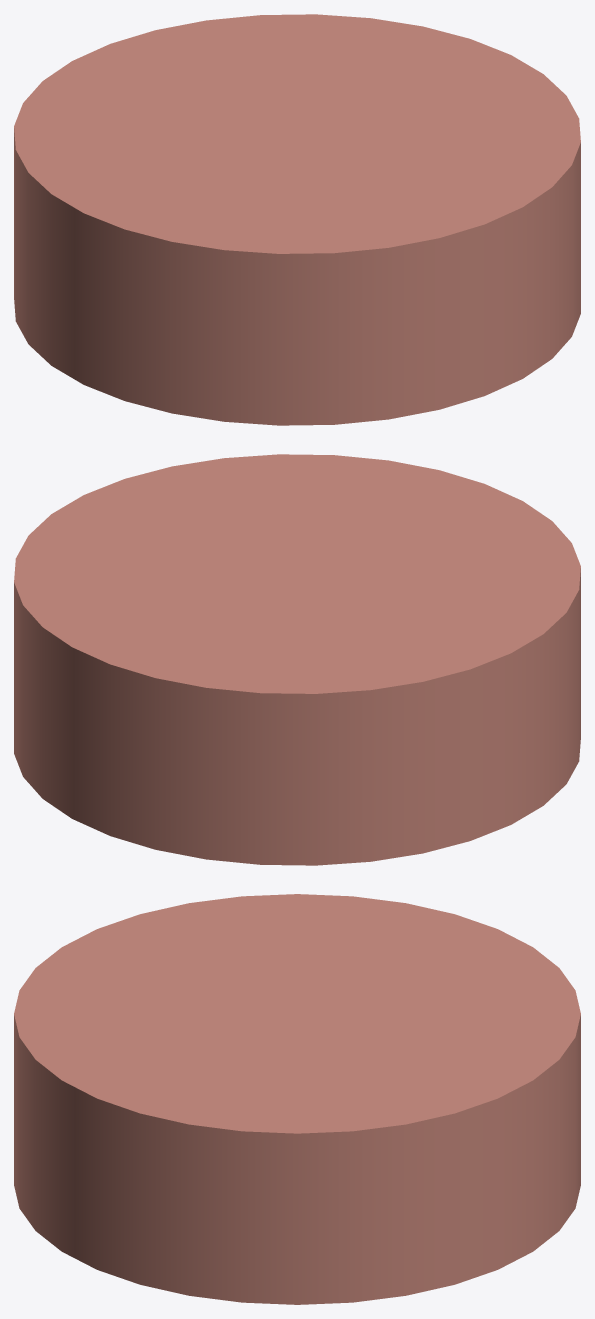
File: BasicCylinder15x5.fbx
The picture shows the model from 3 angles, top to bottom: view 1: azimuth 30°, elevation 25°; view 2: azimuth 150°, elevation 25°; view 3: azimuth 270°, elevation 25°; orthographic projection.
Parts seen in each view (by area): view 1: BasicCylinder.006; view 2: BasicCylinder.006; view 3: BasicCylinder.006.
Part boxes in pixels (x1=…): BasicCylinder.006: x1=14, y1=14, x2=580, y2=425; BasicCylinder.006: x1=14, y1=454, x2=580, y2=865; BasicCylinder.006: x1=14, y1=894, x2=580, y2=1304.
Bounding box in the file's own units: 1500 × 500 × 1500.
